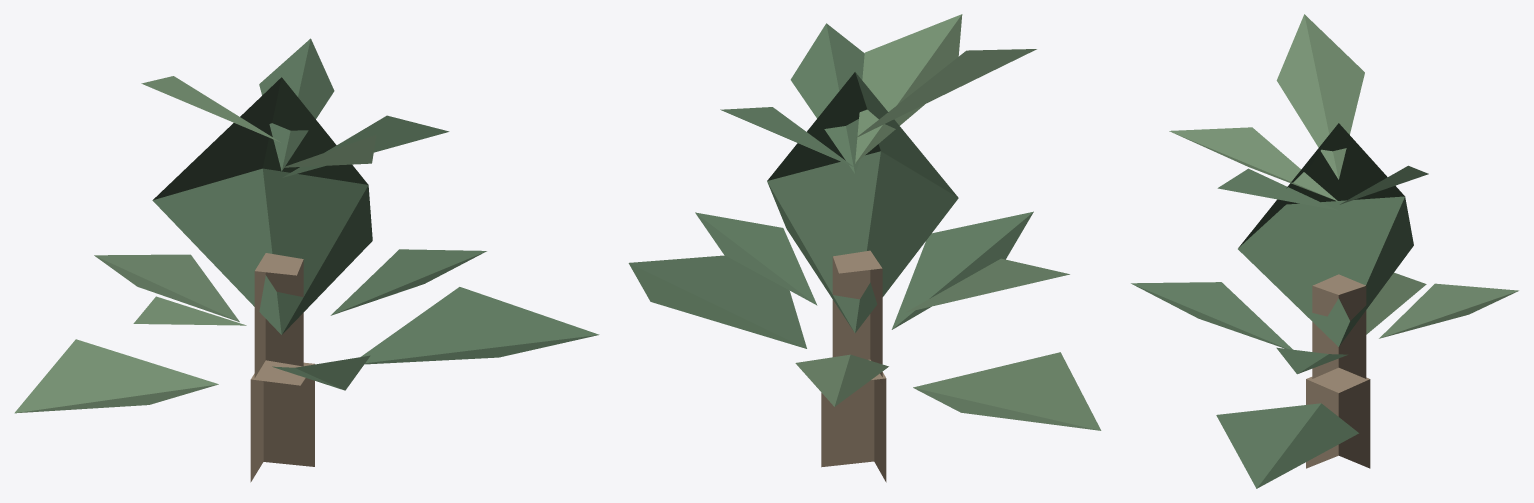
Rendered from shu.yunshan@seedling__autumn.glb.
3 views of the same model, side by side, from view 1: azimuth 30°, elevation 25°; view 2: azimuth 150°, elevation 25°; view 3: azimuth 270°, elevation 25° (orthographic). The views are drawn at different scales.
Parts seen in each view (by area): view 1: shu.yunshan@seedling__autumn; view 2: shu.yunshan@seedling__autumn; view 3: shu.yunshan@seedling__autumn.
Boxes of the visible parts, bbox=[...] form: shu.yunshan@seedling__autumn: bbox=[14, 38, 599, 482]; shu.yunshan@seedling__autumn: bbox=[628, 14, 1101, 482]; shu.yunshan@seedling__autumn: bbox=[1131, 14, 1518, 488].
Size of the model in its own units: 1.6 by 1.3 by 1.18.
